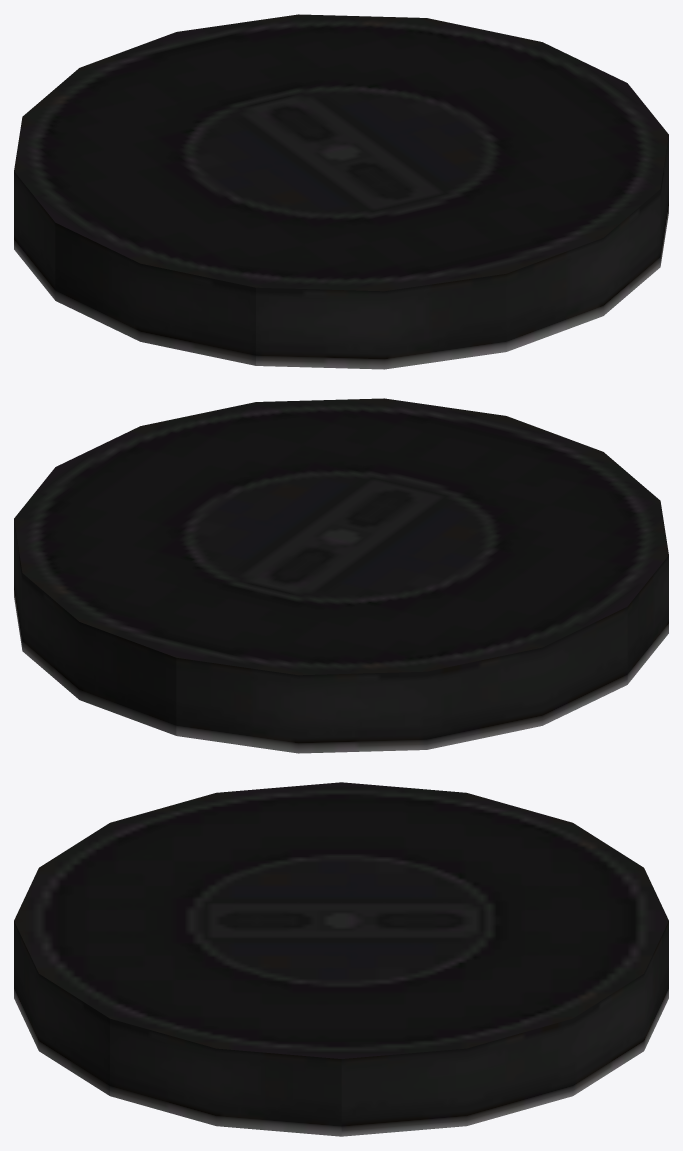
File: cuadros.fbx
3 views of the same model, one above another, from view 1: azimuth 30°, elevation 25°; view 2: azimuth 150°, elevation 25°; view 3: azimuth 270°, elevation 25° (orthographic).
Parts seen in each view (by area): view 1: s4studio_mesh_0; view 2: s4studio_mesh_0; view 3: s4studio_mesh_0.
Part boxes in pixels (bbox=[...]): s4studio_mesh_0: bbox=[14, 14, 668, 369]; s4studio_mesh_0: bbox=[14, 398, 668, 753]; s4studio_mesh_0: bbox=[14, 782, 668, 1136].
Size of the model in its own units: 47.83 by 11.01 by 47.83.
Materials: 1 (1 with a texture image).
